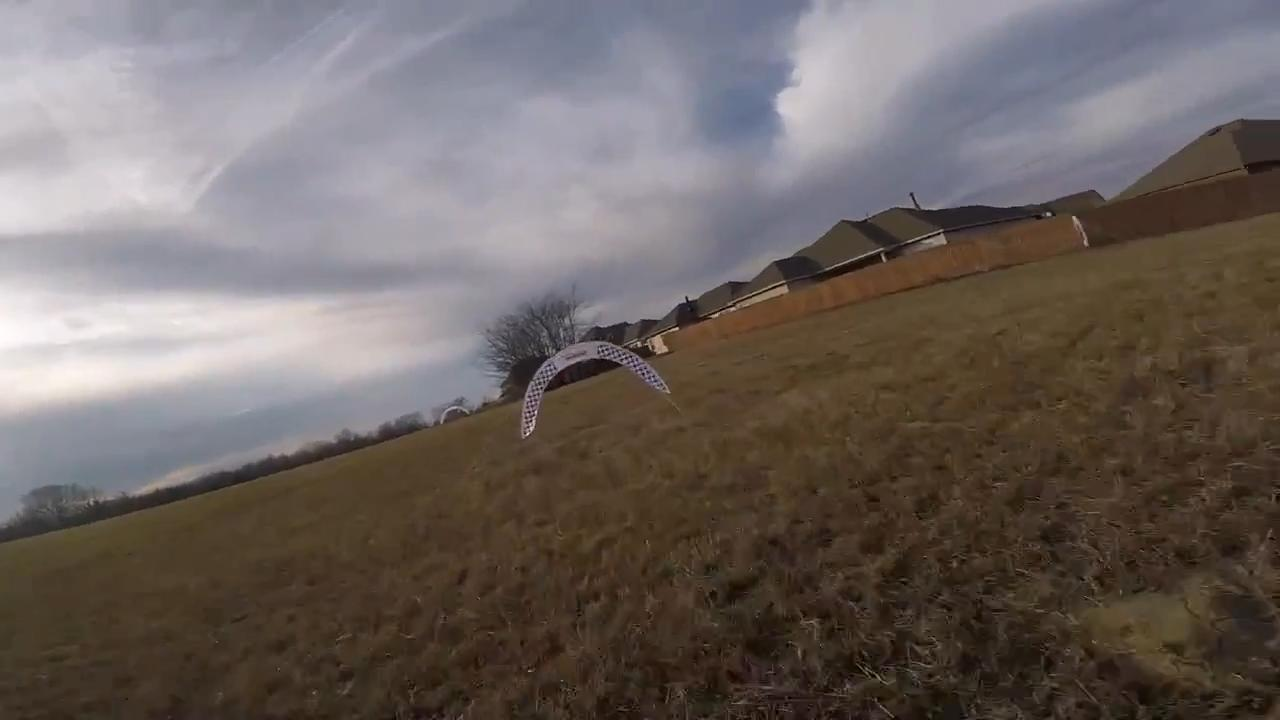gate: (516, 336, 672, 443)
